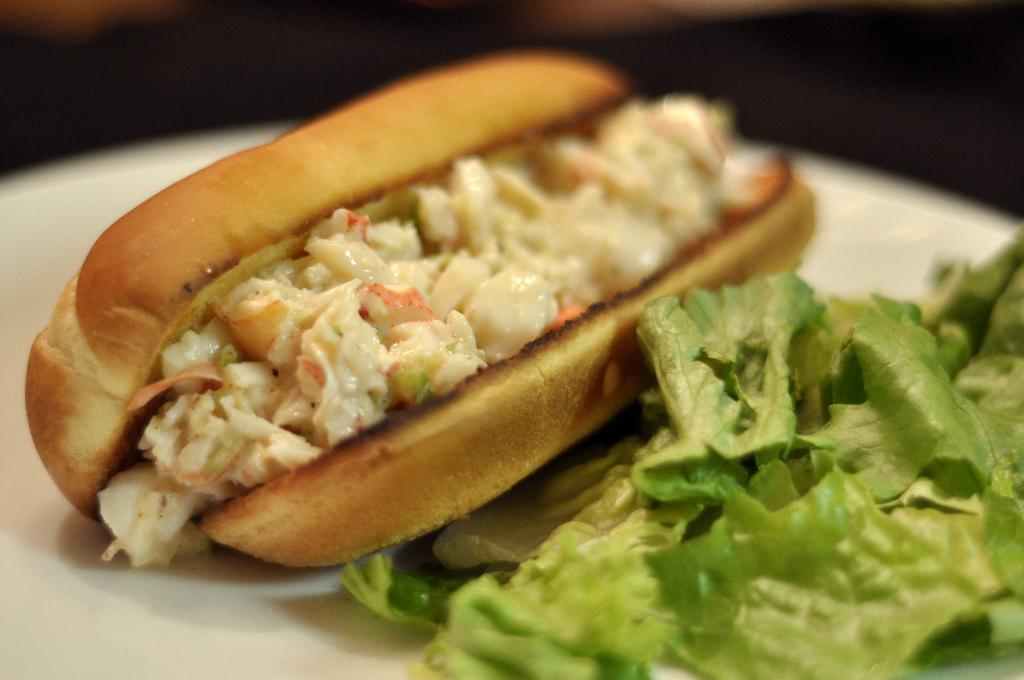hot_dog: (5, 52, 837, 581)
